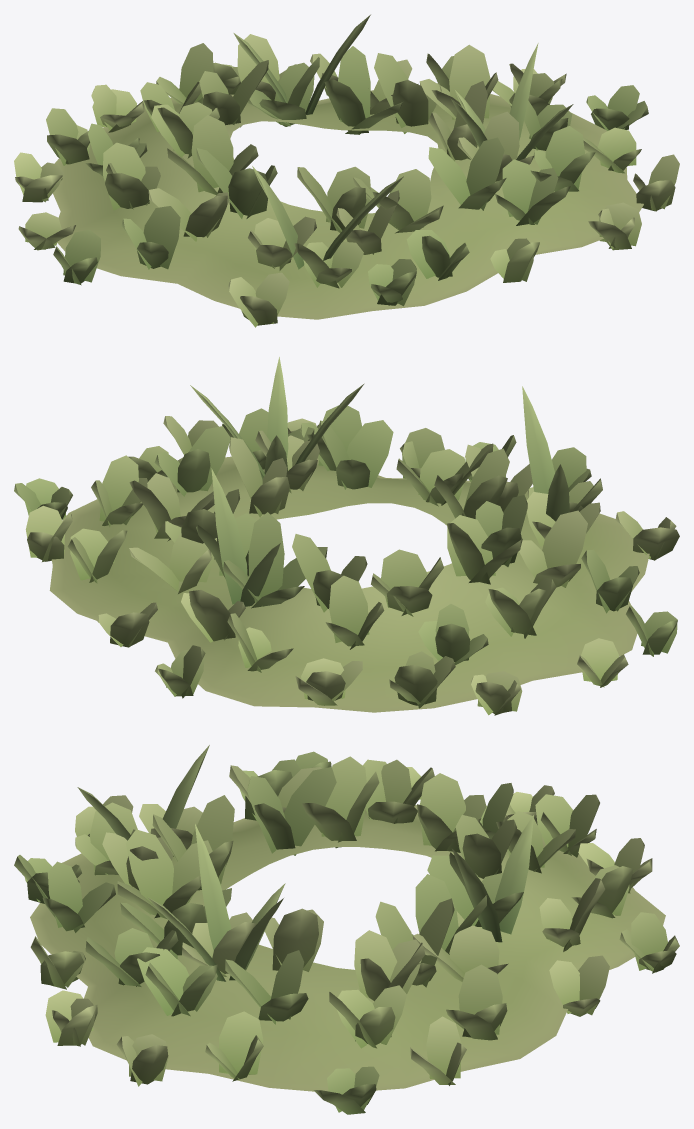
The model's file is patch_ring_a.glb.
3 views of the same model, one above another, from view 1: azimuth 30°, elevation 25°; view 2: azimuth 150°, elevation 25°; view 3: azimuth 270°, elevation 25° (orthographic). The views are drawn at different scales.
Parts seen in each view (by area): view 1: Patch_Ring_A.001; view 2: Patch_Ring_A.001; view 3: Patch_Ring_A.001.
Boxes of the visible parts, x1=… form: Patch_Ring_A.001: x1=14, y1=14, x2=679, y2=327; Patch_Ring_A.001: x1=14, y1=357, x2=679, y2=715; Patch_Ring_A.001: x1=14, y1=745, x2=679, y2=1114.
Size of the model in its own units: 1.32 by 0.2958 by 1.11.
